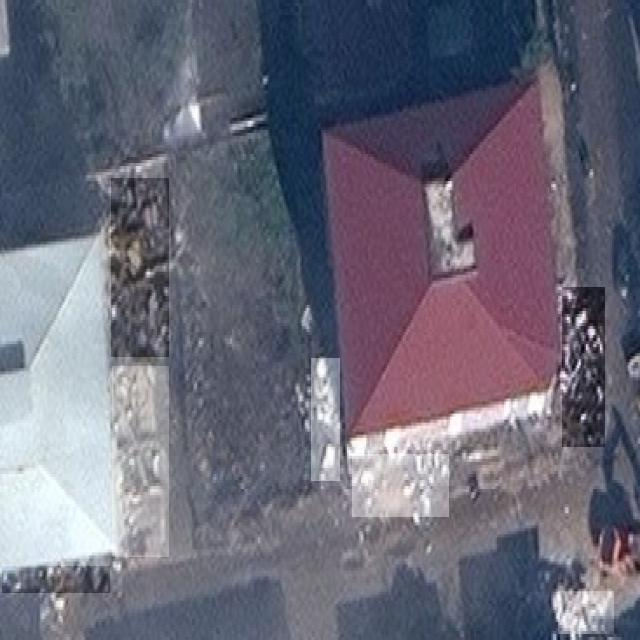Rubble: (112, 366, 169, 557), (111, 178, 169, 357), (562, 287, 605, 447), (352, 454, 449, 517), (311, 358, 340, 481), (2, 566, 110, 593), (558, 591, 614, 634)
